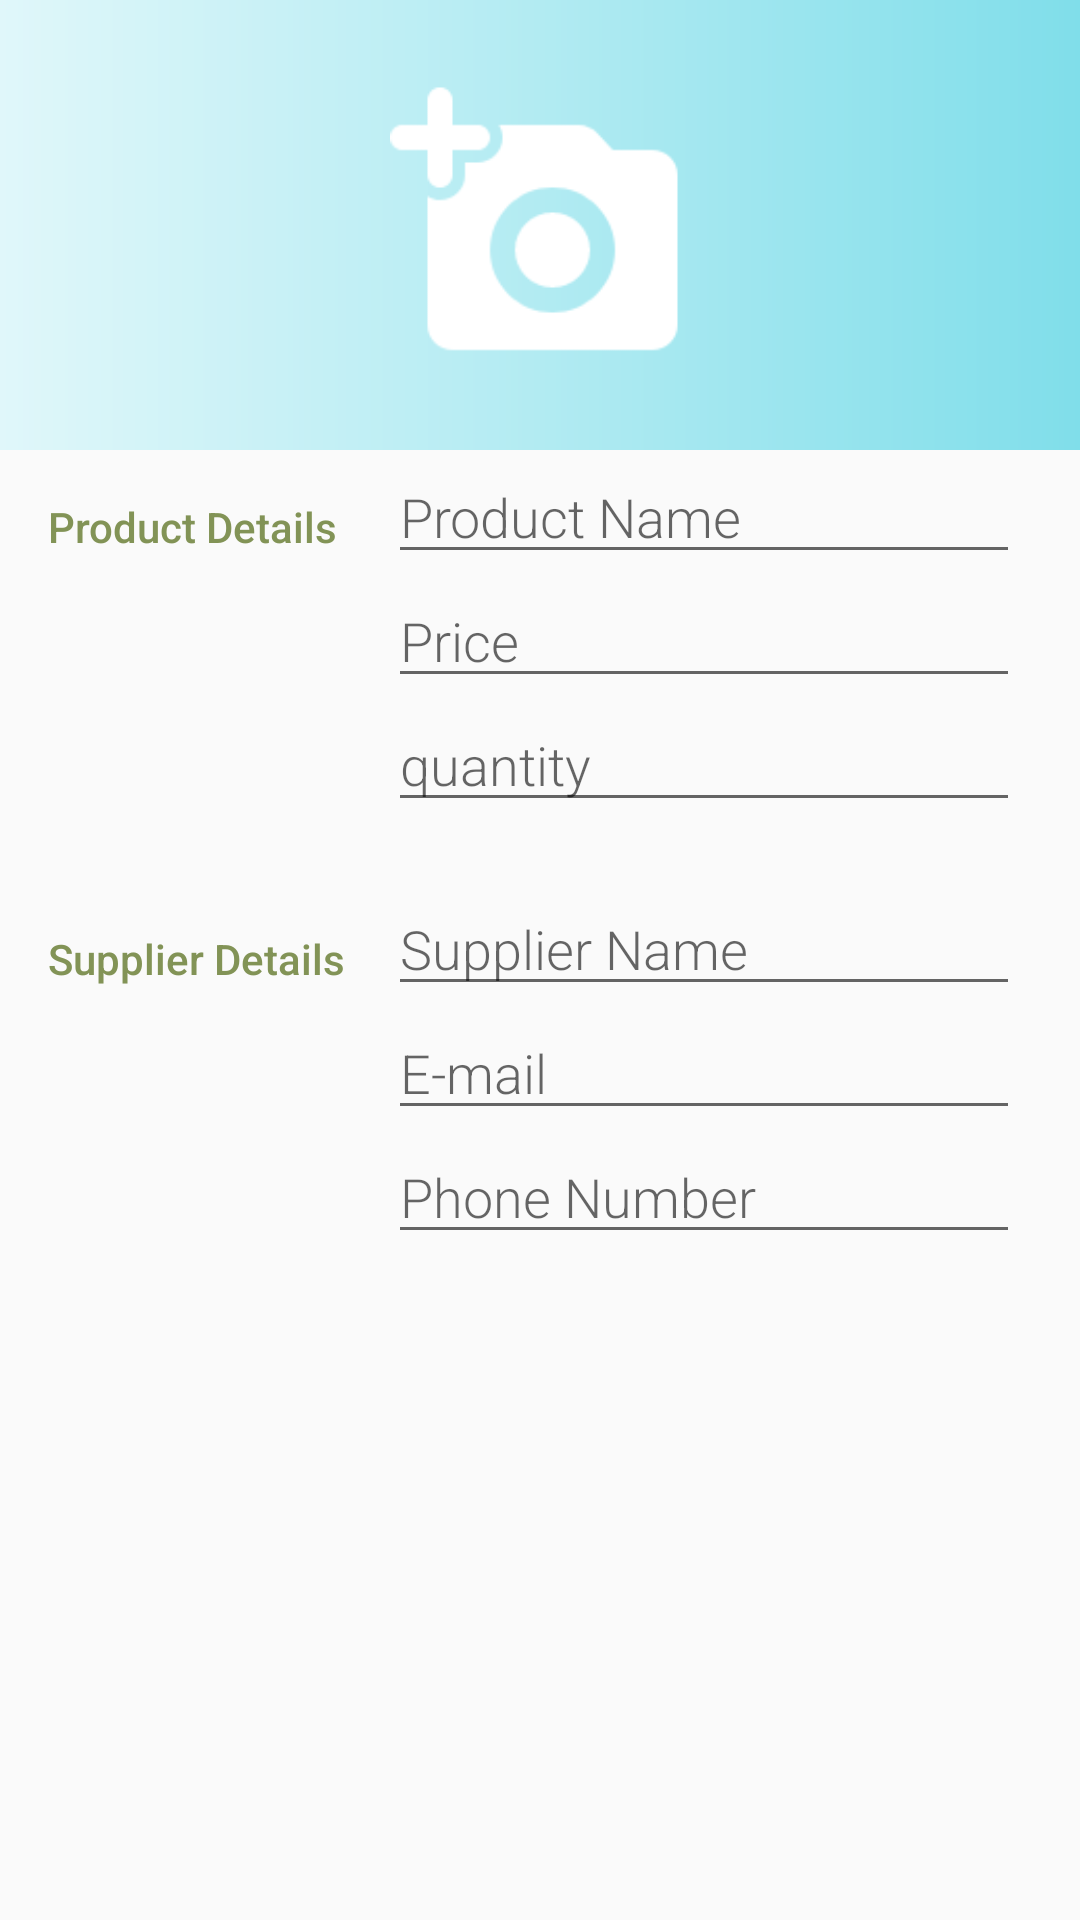

Where to tap for icons on this 1080×1920 app screen, as (x,y):
Upload image: (533,218)
